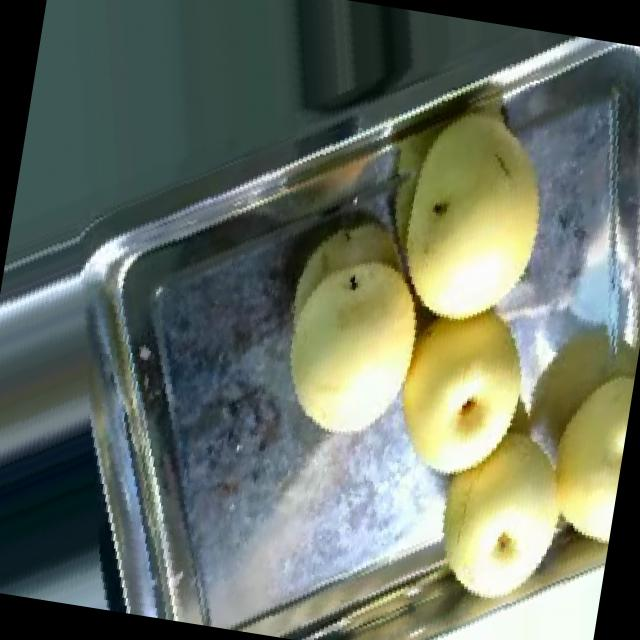Fruit: (237, 188, 463, 474), (350, 80, 578, 350), (394, 375, 620, 638), (360, 269, 561, 504), (528, 343, 638, 564)
